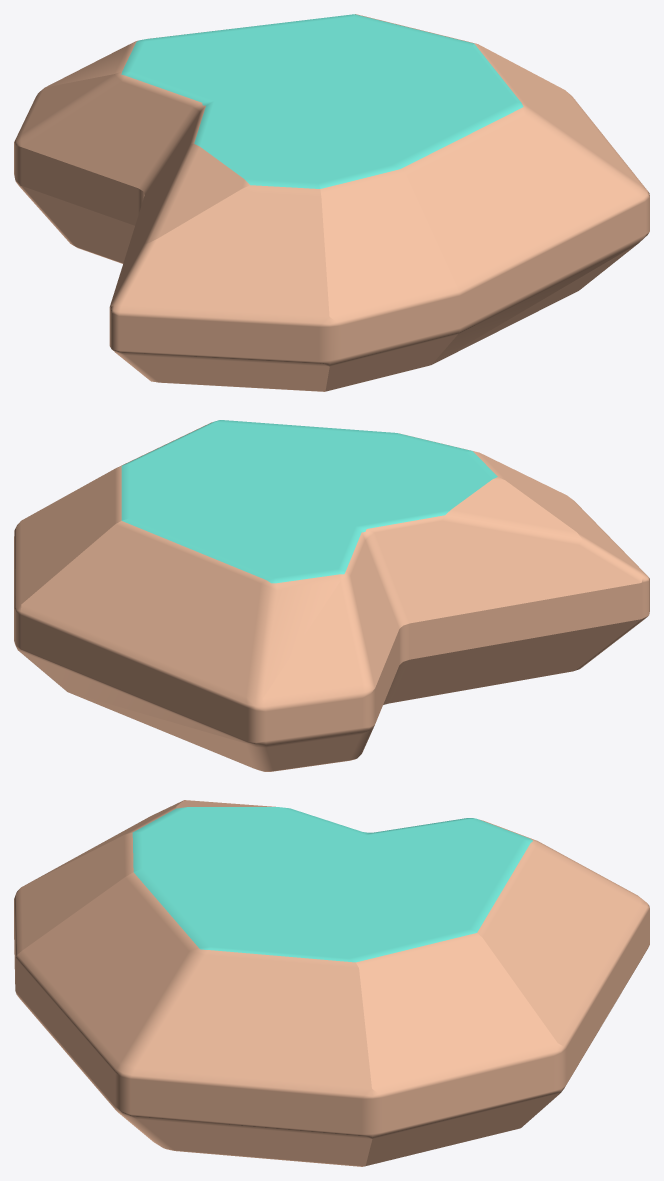
File: rock_largeC.glb
The picture shows the model from 3 angles, top to bottom: view 1: azimuth 30°, elevation 25°; view 2: azimuth 150°, elevation 25°; view 3: azimuth 270°, elevation 25°; orthographic projection. The views are drawn at different scales.
Parts seen in each view (by area): view 1: rock_largeC; view 2: rock_largeC; view 3: rock_largeC.
Boxes of the visible parts, x1,y1,x2,y2 form: rock_largeC: (14,14,649,391); rock_largeC: (14,420,649,771); rock_largeC: (14,800,649,1166).
Size of the model in its own units: 1.05 by 0.3211 by 1.01.
